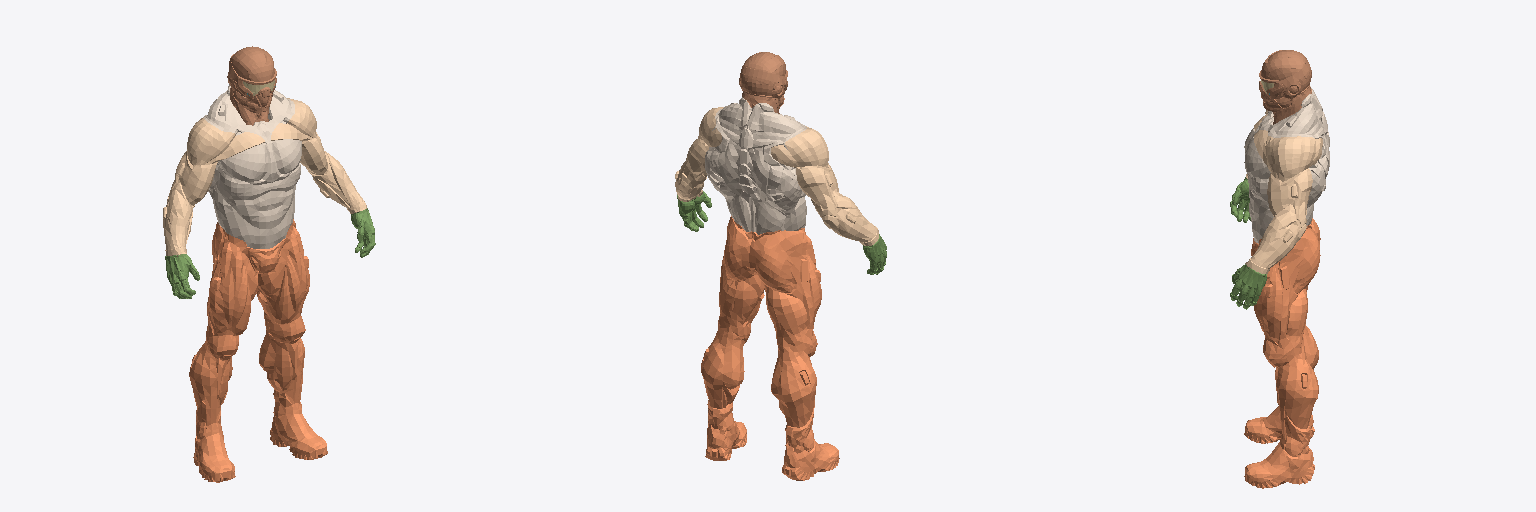
File: nanosuit.obj
3 views of the same model, side by side, from view 1: azimuth 30°, elevation 25°; view 2: azimuth 150°, elevation 25°; view 3: azimuth 270°, elevation 25° (orthographic).
Visible parts, largest first — view 1: Legs, Body, Arms, Helmet, hands; view 2: Legs, Body, Arms, Helmet, hands; view 3: Legs, Arms, Body, Helmet, hands.
Part boxes in pixels (x1,y1,x2,y2): Legs: (189, 219, 327, 482); Body: (203, 84, 301, 248); Arms: (163, 98, 366, 256); Helmet: (227, 46, 276, 125); hands: (165, 208, 375, 298); Legs: (701, 216, 839, 480); Body: (705, 97, 806, 234); Arms: (675, 107, 878, 245); Helmet: (739, 52, 787, 113); hands: (677, 191, 886, 274); Legs: (1244, 218, 1320, 488); Arms: (1245, 110, 1322, 273); Body: (1244, 86, 1329, 243); Helmet: (1259, 50, 1311, 124); hands: (1230, 177, 1266, 309).
Size of the model in its own units: 7.99 by 15.41 by 3.44.